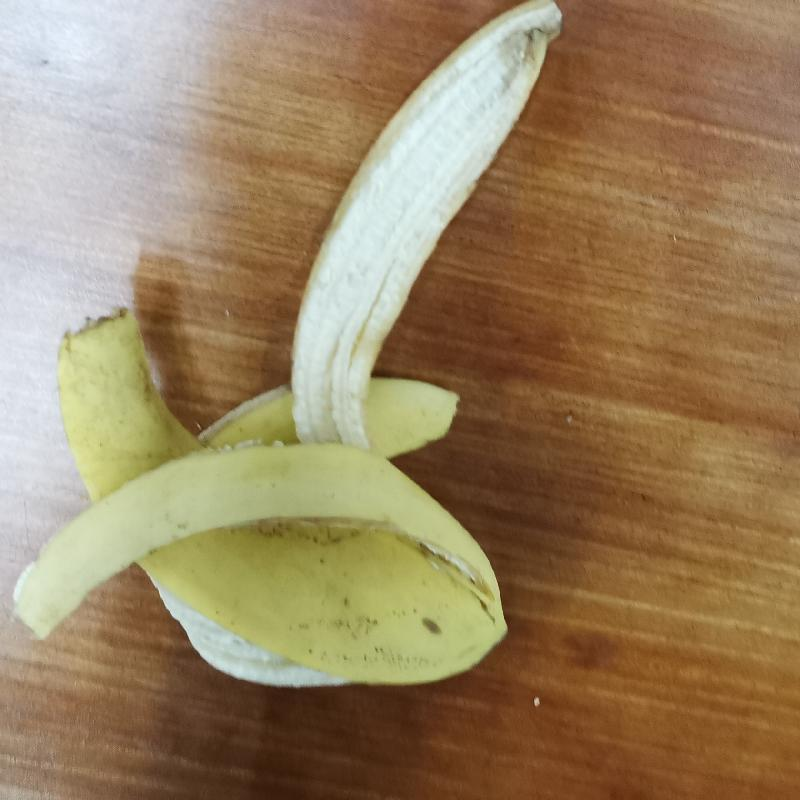bananas: (3, 4, 573, 691)
